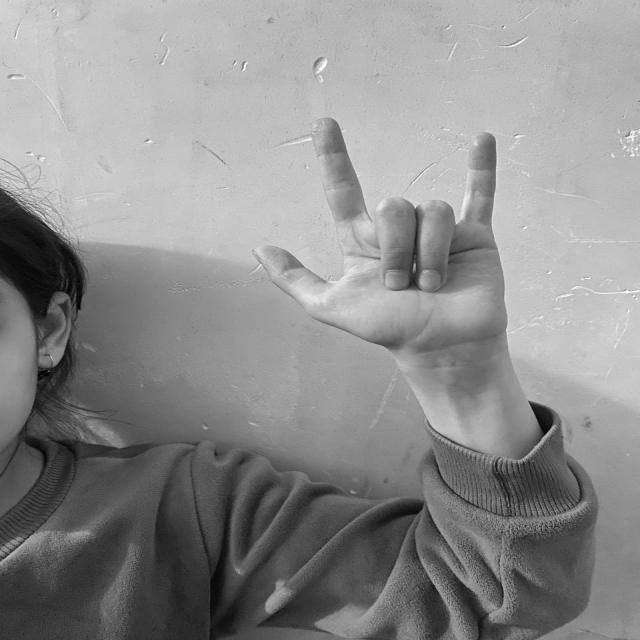i love you: (247, 110, 518, 367)
